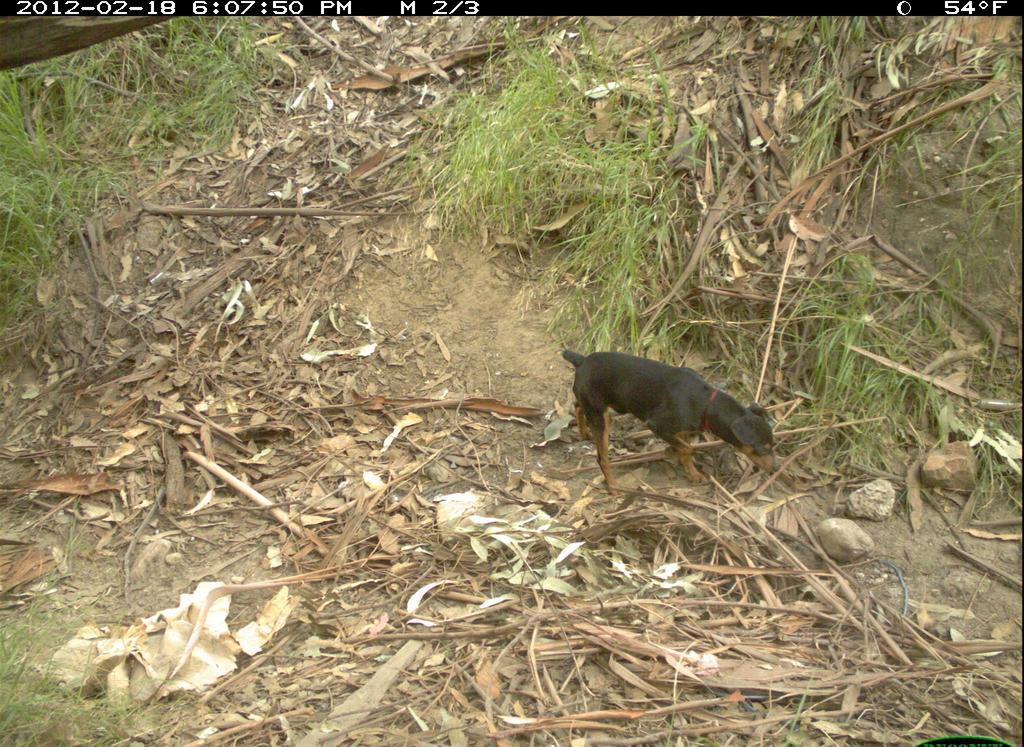dog: (557, 338, 794, 501)
